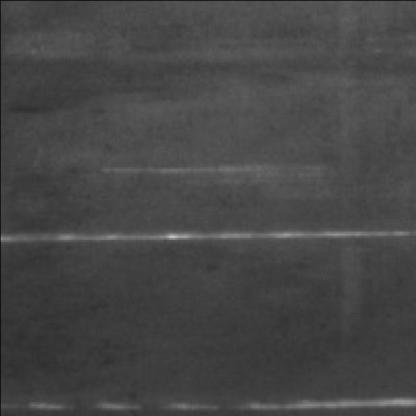scratches: (0, 223, 410, 254)
